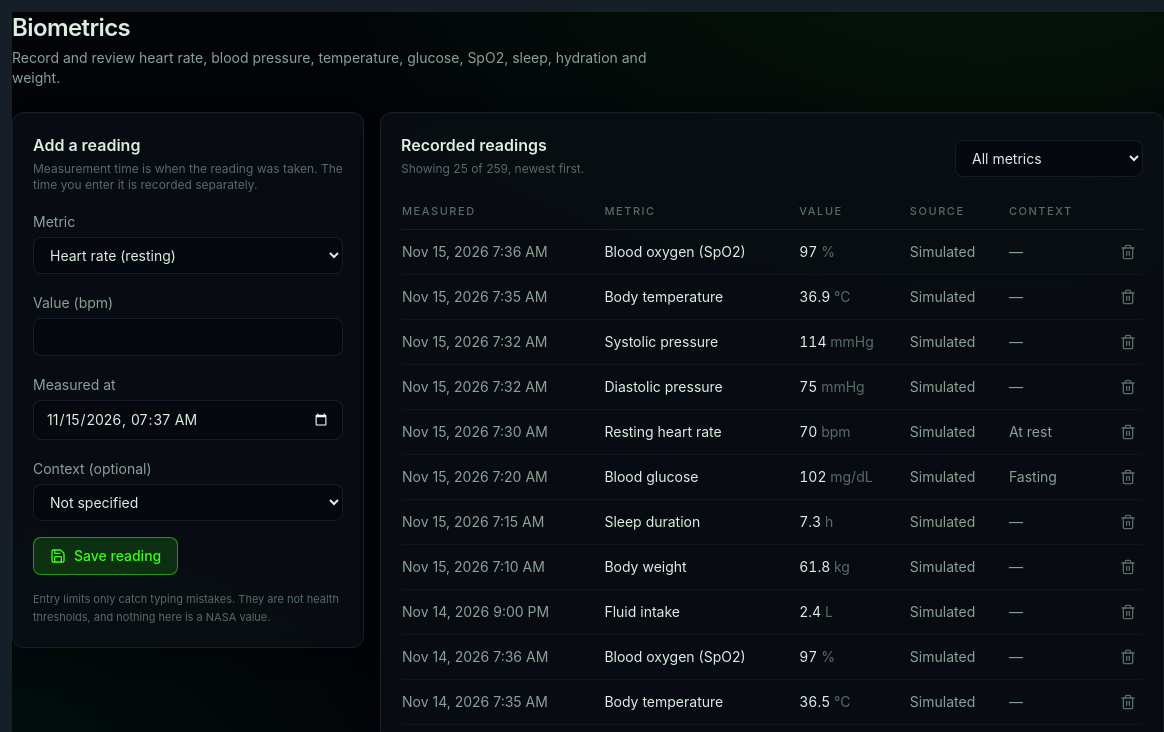
Biometrics page › shows a validation error for an empty submission and saves nothing
What coordinates should you click on to do the following:
click the button "Save reading"
I would click on:
 (106, 556)
Its box is [33,537,178,575].
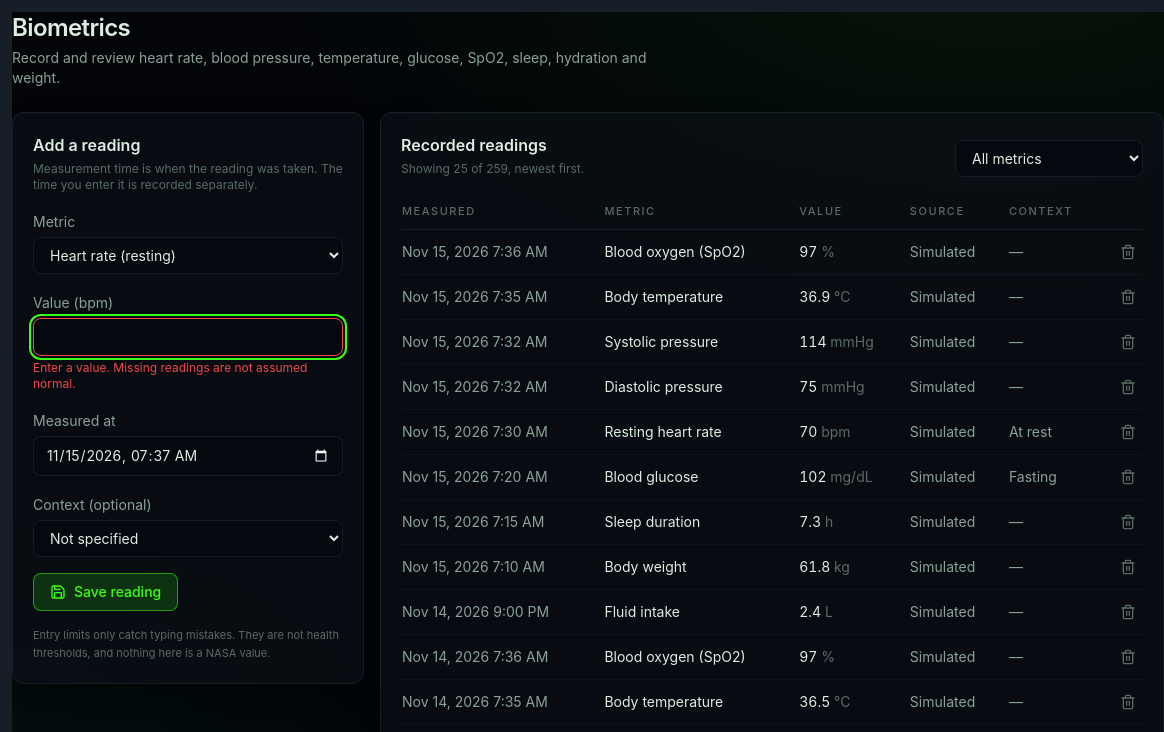
Now the text "Enter a value. Missing readings are not assumed normal." is shown, box [33,360,343,392]
